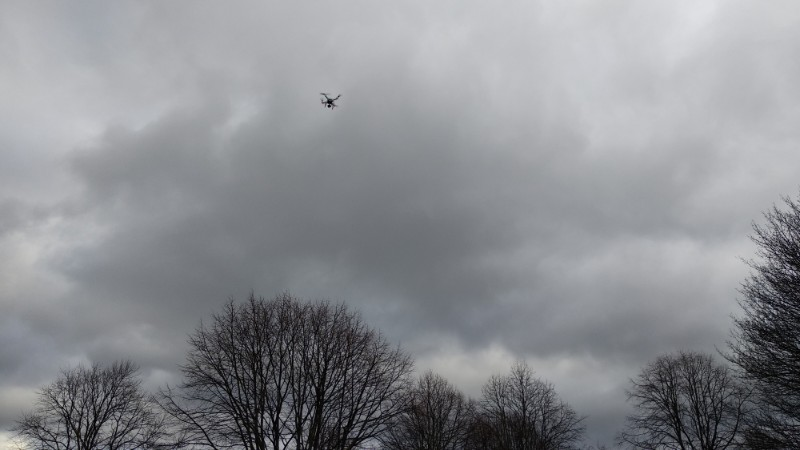drone: (319, 93, 341, 109)
